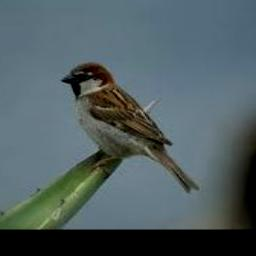Sparrow: (62, 61, 200, 192)
